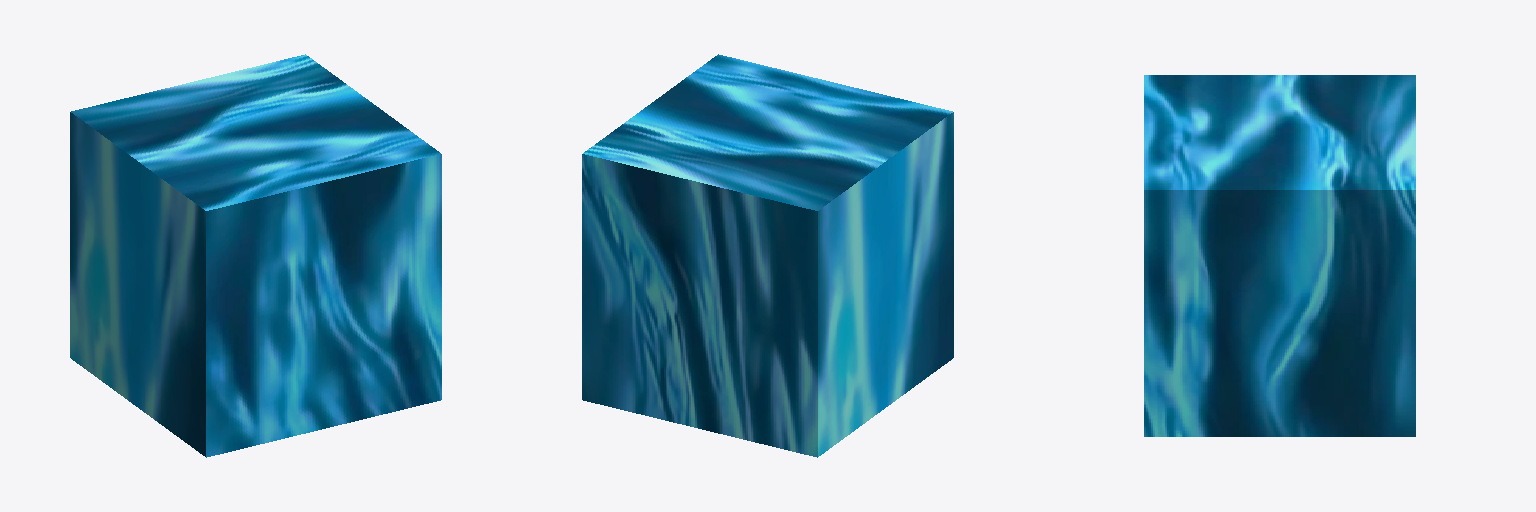
3 renders of one model, left to right at view 1: azimuth 30°, elevation 25°; view 2: azimuth 150°, elevation 25°; view 3: azimuth 270°, elevation 25°, orthographic.
Visible parts, largest first — view 1: Cube30; view 2: Cube30; view 3: Cube30.
Boxes of the visible parts, x1=… form: Cube30: x1=70, y1=54, x2=441, y2=457; Cube30: x1=582, y1=54, x2=953, y2=457; Cube30: x1=1144, y1=75, x2=1415, y2=436.
Bounding box in the file's own units: 2 × 2 × 2.
Materials: 1 (1 with a texture image).